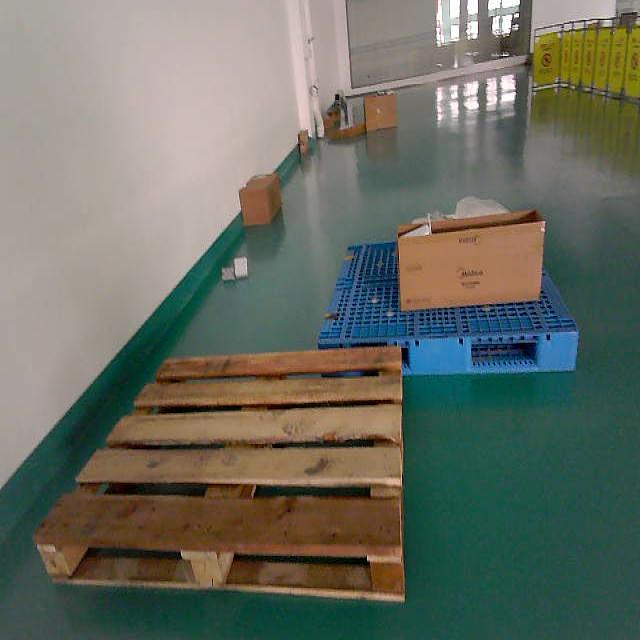euro: (35, 347, 402, 600)
